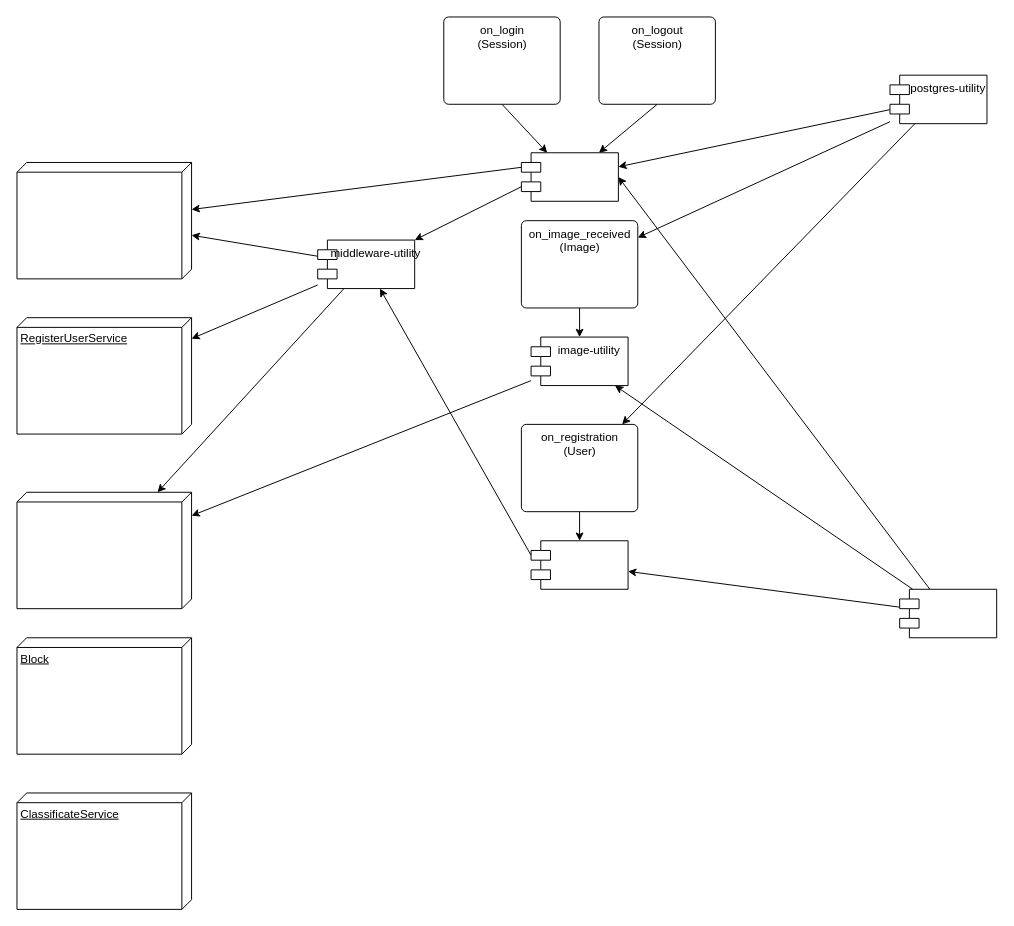
The diagram is 1014 pixels wide and 926 high, and some of its shapes have lost their labels. The shapes that lost their labels are listed below. From the top down, each one's centre as x and y in pixels, then its label:
point 569,176: session-utility
point 104,220: AuthService
point 104,550: ImageService
point 579,564: user-utility
point 948,613: rabbitmq-utility
